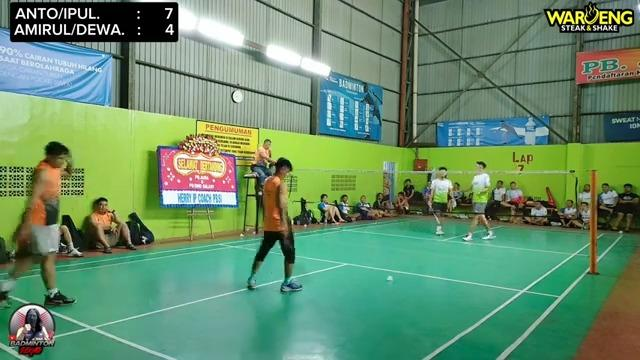Shuttlecock: (386, 274, 398, 284)
